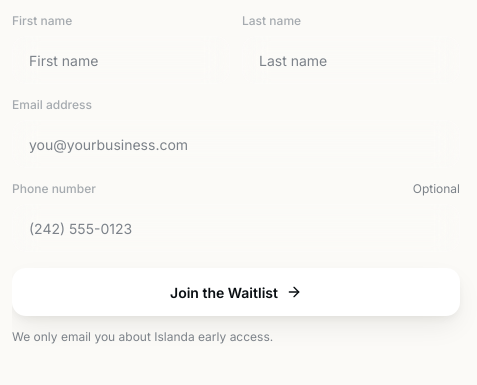
Test case: waitlist signup form › shows a phone validation error next to the phone field
This screenshot has width=477, height=385.
Type "Ada" into the field labelled "First name". click: (121, 60)
box: [12,36,230,84]
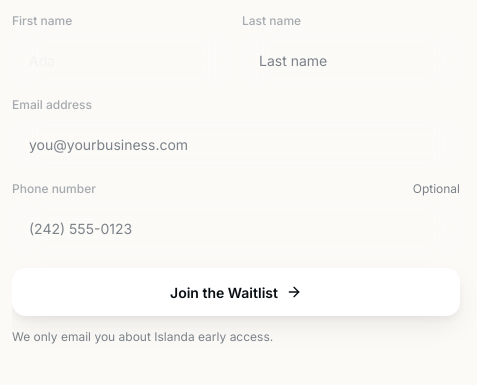
Type "Lovelace" into the field labelled "Last name". click: (351, 60)
box: [242,36,460,84]
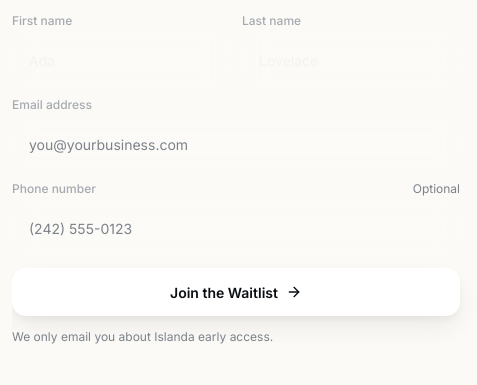
Type "ada@example.com" into the field labelled "Email address". click: (236, 144)
box: [12,120,460,168]
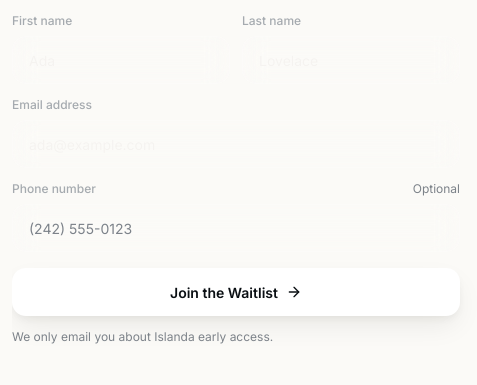
Submit the form "Join the Waitlist"
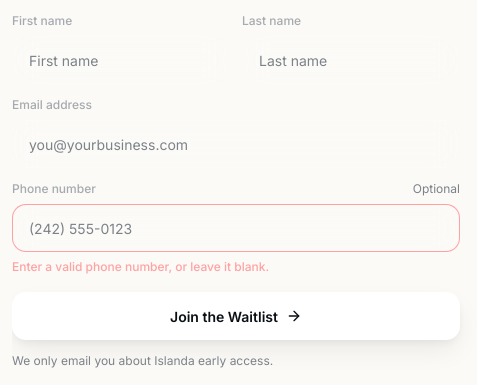
Check: the text "Enter a valid phone number, or leave it blank." is shown, box [12,259,269,274]
